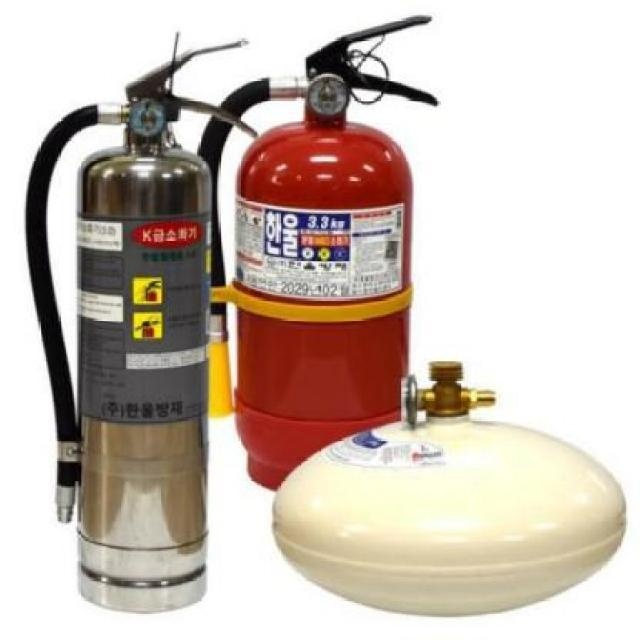fire extinguisher: (25, 37, 259, 611), (196, 15, 438, 493)
